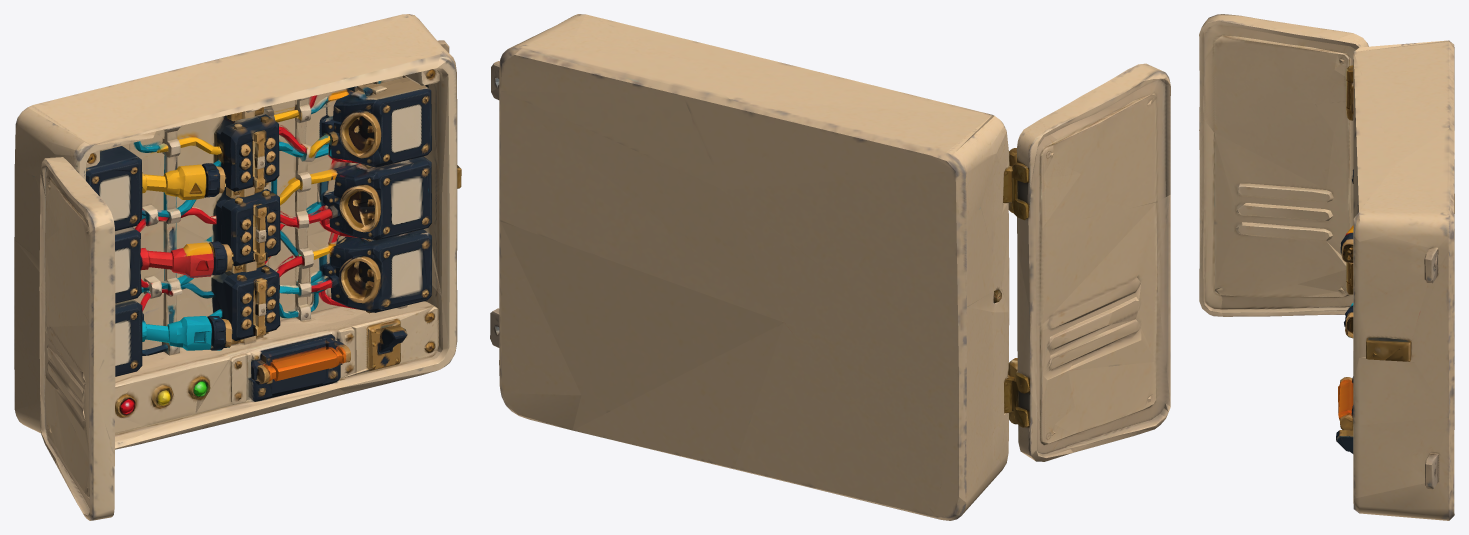
File: electrical-box.glb
3 renders of one model, left to right at view 1: azimuth 30°, elevation 25°; view 2: azimuth 150°, elevation 25°; view 3: azimuth 270°, elevation 25°, orthographic. The views are drawn at different scales.
Parts seen in each view (by area): view 1: Mesh_0; view 2: Mesh_0; view 3: Mesh_0.
Boxes of the visible parts, x1,y1,x2,y2 form: Mesh_0: (14,14,461,520); Mesh_0: (490,14,1170,520); Mesh_0: (1199,14,1454,520).
Bounding box in the file's own units: 1.9 × 1.23 × 0.9279.
1 material, 1 textured.
